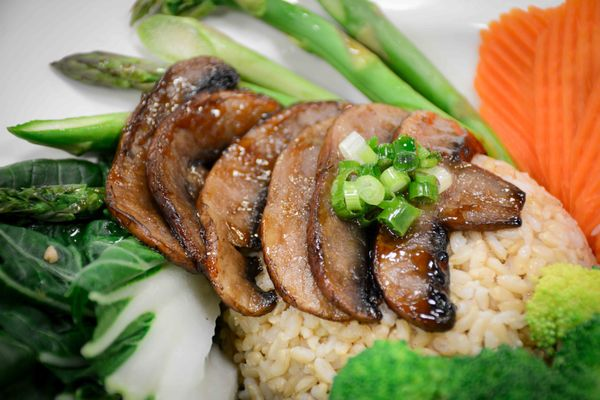curry: (331, 261, 600, 395)
